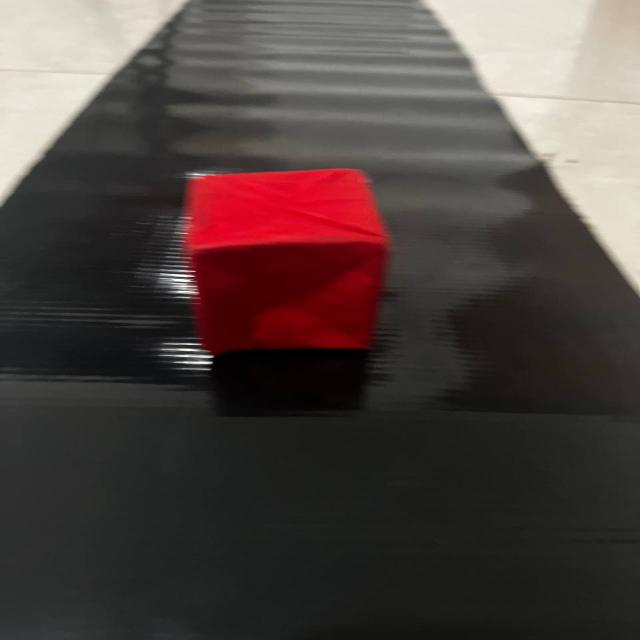Rojo: (160, 156, 426, 376)
